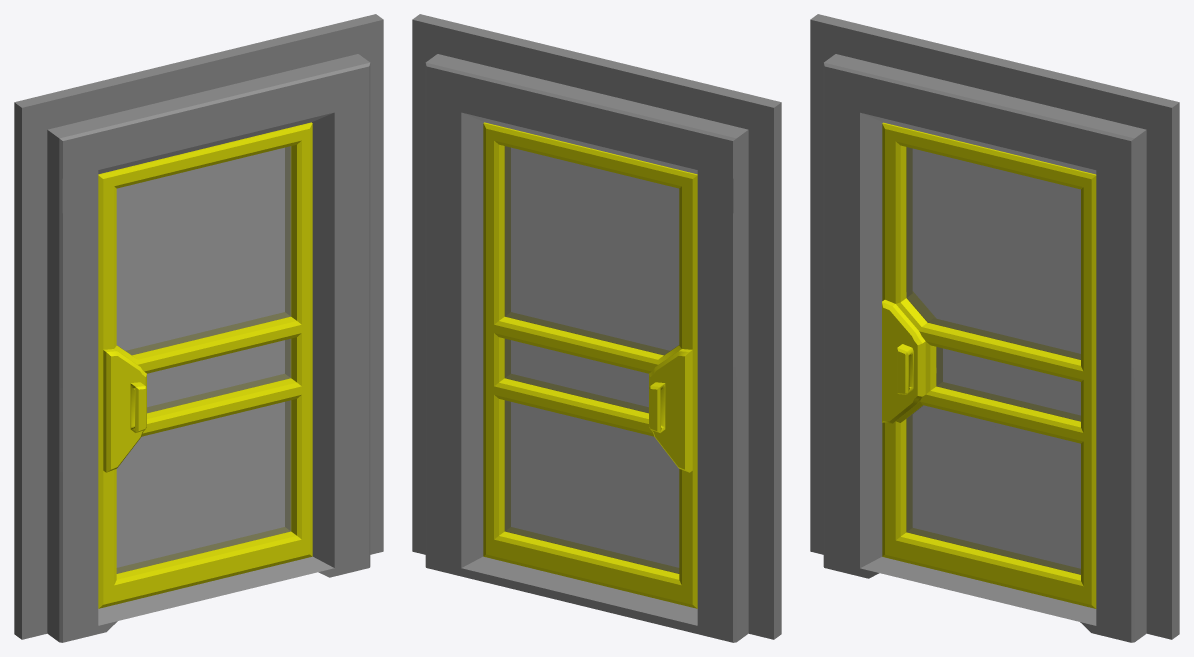
Rendered from Single_ScifiRetroDoor.fbx.
3 renders of one model, left to right at view 1: azimuth 30°, elevation 25°; view 2: azimuth 150°, elevation 25°; view 3: azimuth 330°, elevation 25°, orthographic.
Visible parts, largest first — view 1: Single_ScifiDoorWall, Single_SciFiRetroDoor; view 2: Single_ScifiDoorWall, Single_SciFiRetroDoor; view 3: Single_ScifiDoorWall, Single_SciFiRetroDoor.
Part boxes in pixels (x1,y1,x2,y2): Single_ScifiDoorWall: (14,14,383,642); Single_SciFiRetroDoor: (98,122,312,608); Single_ScifiDoorWall: (412,14,781,642); Single_SciFiRetroDoor: (483,122,697,608); Single_ScifiDoorWall: (810,14,1179,642); Single_SciFiRetroDoor: (882,122,1096,608).
Size of the model in its own units: 247 by 347 by 43.32.
